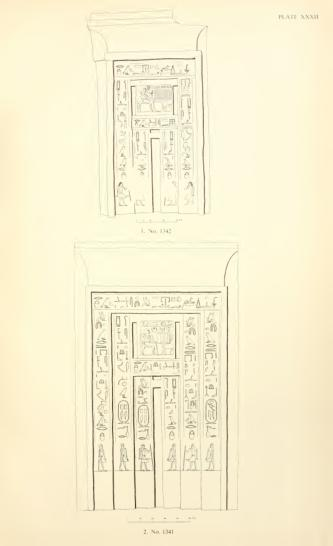circle: (116, 399, 131, 426), (204, 398, 218, 426), (136, 405, 150, 428)
